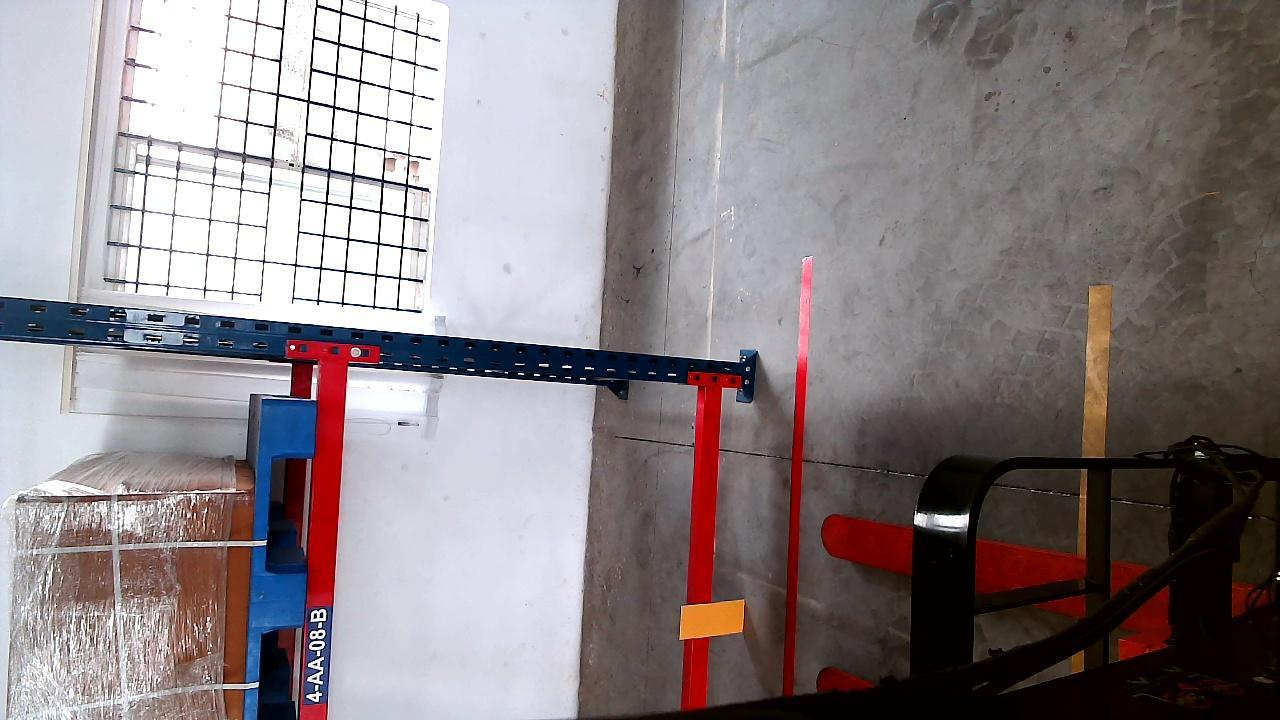red_line: (782, 255, 815, 695)
yellow_line: (1083, 278, 1110, 458)
